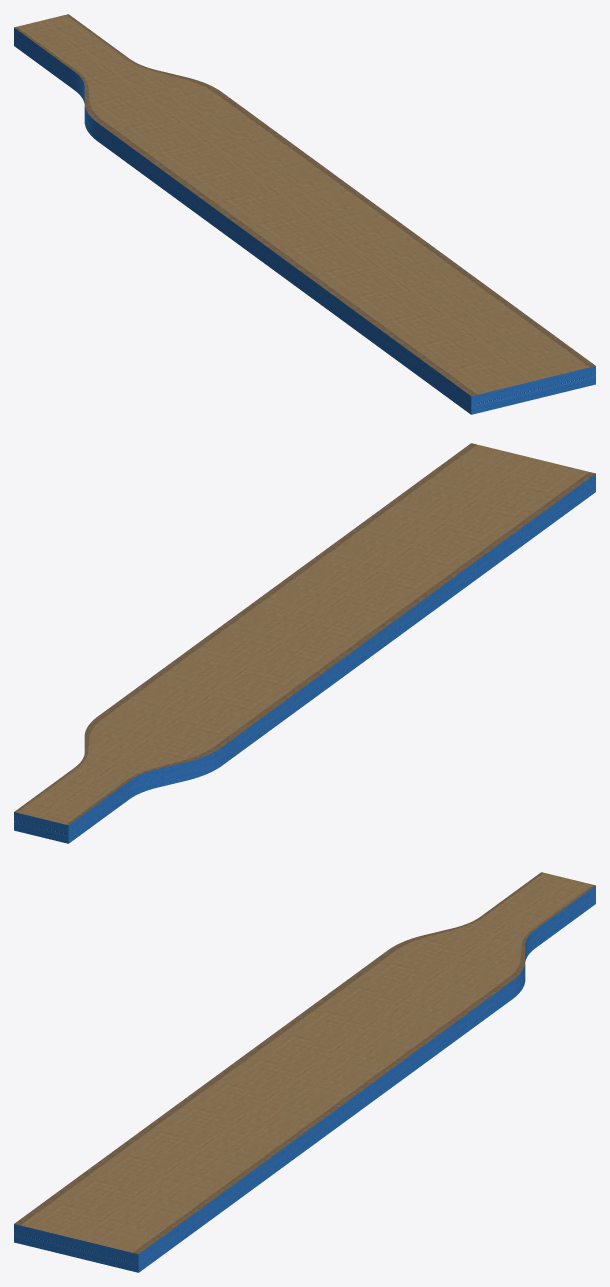
The model's file is ramp_5.FBX.
The picture shows the model from 3 angles, top to bottom: view 1: azimuth 30°, elevation 25°; view 2: azimuth 150°, elevation 25°; view 3: azimuth 330°, elevation 25°; orthographic projection.
Visible parts, largest first — view 1: Line007; view 2: Line007; view 3: Line007.
Part boxes in pixels (bbox=[...]): Line007: bbox=[14, 14, 595, 414]; Line007: bbox=[14, 443, 595, 843]; Line007: bbox=[14, 872, 595, 1272].
Size of the model in its own units: 547 by 77.72 by 3738.
